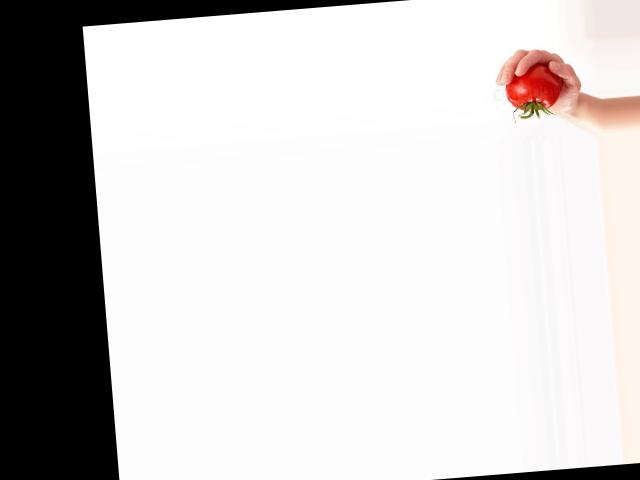tomato: (503, 61, 561, 113)
